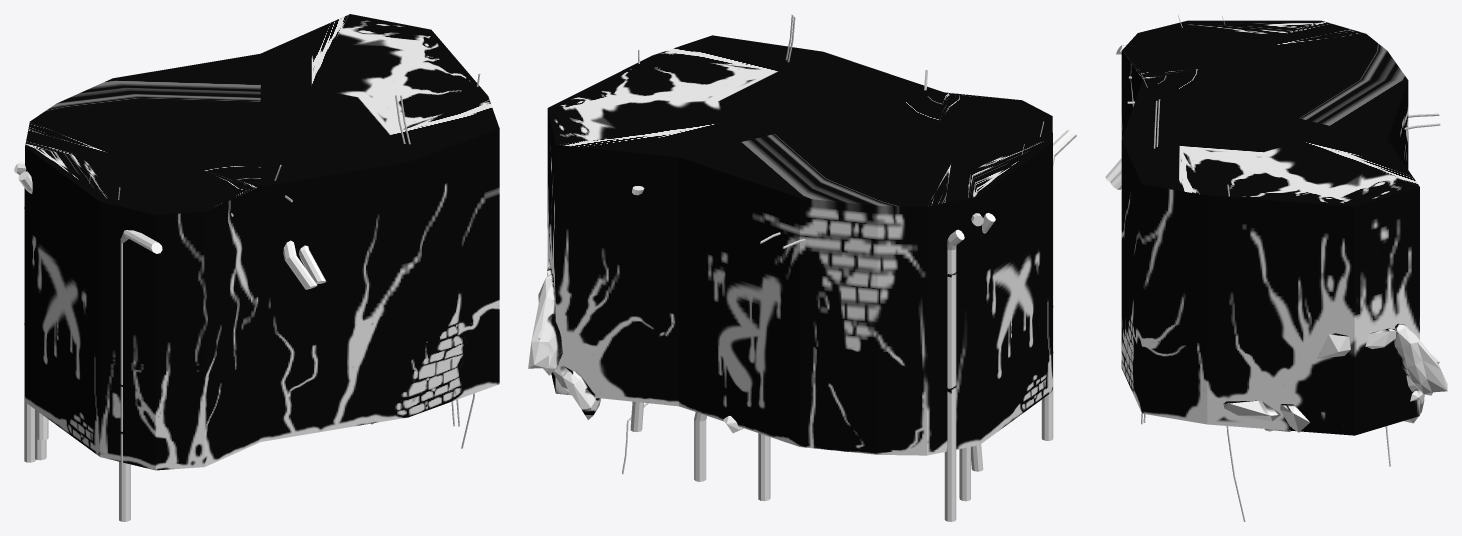
The model's file is bossEscenario.fbx.
The picture shows the model from 3 angles, left to right: view 1: azimuth 30°, elevation 25°; view 2: azimuth 150°, elevation 25°; view 3: azimuth 270°, elevation 25°; orthographic projection. The views are drawn at different scales.
Visible parts, largest first — view 1: wals, top, cables thic, cables thin; view 2: wals, top, cables thic, stones; view 3: wals, top, stones, cables thin.
Boxes of the visible parts, left/top/right/bottom form: wals: left=25, top=129, right=499, bottom=470; top: left=25, top=14, right=499, bottom=214; cables thic: left=14, top=161, right=326, bottom=521; cables thin: left=89, top=73, right=480, bottom=448; wals: left=547, top=109, right=1052, bottom=455; top: left=547, top=35, right=1052, bottom=206; cables thic: left=630, top=130, right=1076, bottom=521; stones: left=528, top=259, right=743, bottom=433; wals: left=1121, top=51, right=1419, bottom=435; top: left=1122, top=20, right=1419, bottom=206; stones: left=1223, top=323, right=1447, bottom=432; cables thin: left=1127, top=14, right=1440, bottom=521.
Bounding box in the file's own units: 20368 × 18357 × 15278.
